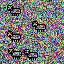sheep: (7, 4, 22, 17), (31, 20, 47, 32), (23, 48, 38, 60), (6, 31, 22, 42), (7, 48, 22, 59)
